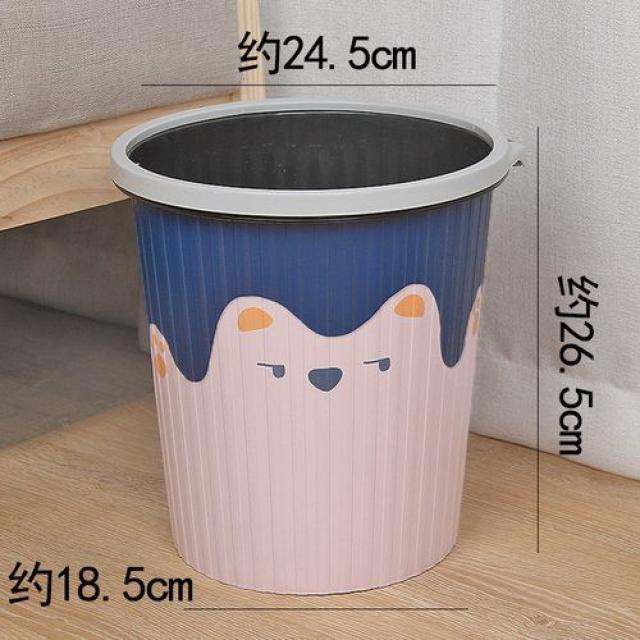Dustbin: (106, 93, 527, 598)
